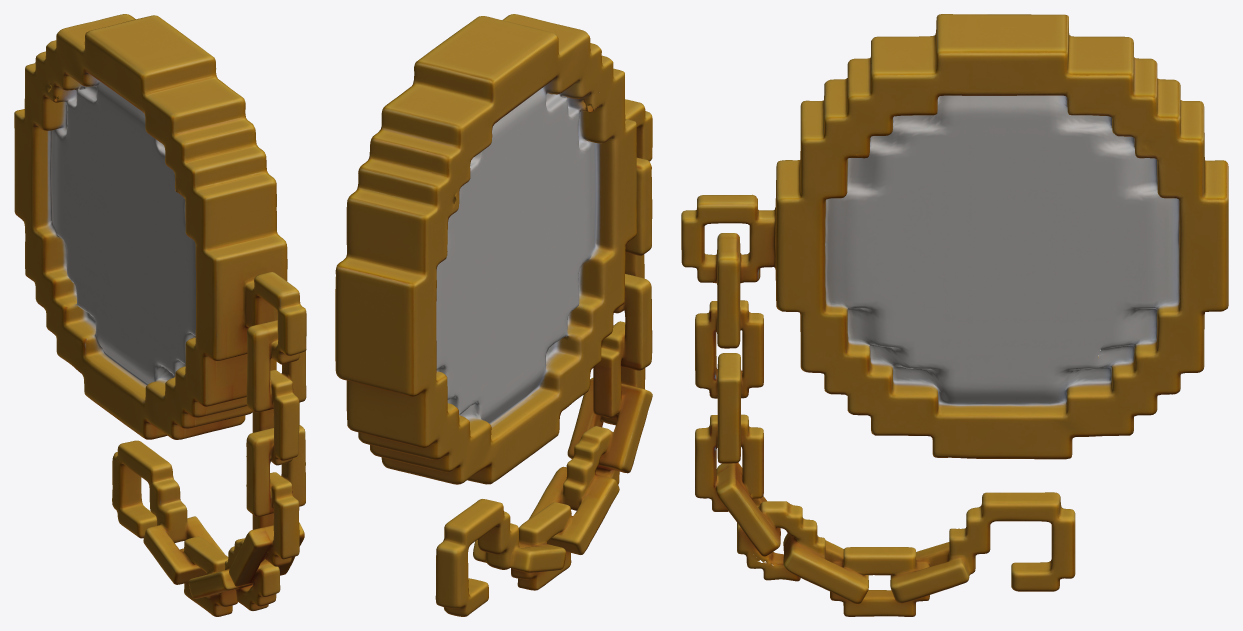
File: monocle.glb
3 views of the same model, side by side, from view 1: azimuth 30°, elevation 25°; view 2: azimuth 150°, elevation 25°; view 3: azimuth 270°, elevation 25° (orthographic). The views are drawn at different scales.
Visible parts, largest first — view 1: tripo_node_abf7bca7; view 2: tripo_node_abf7bca7; view 3: tripo_node_abf7bca7.
Part boxes in pixels (x1,y1,x2,y2): tripo_node_abf7bca7: [14, 14, 306, 616]; tripo_node_abf7bca7: [335, 14, 652, 616]; tripo_node_abf7bca7: [681, 14, 1228, 616].
Bounding box in the file's own units: 14.71 × 97.87 × 83.74.
1 material, 1 textured.
